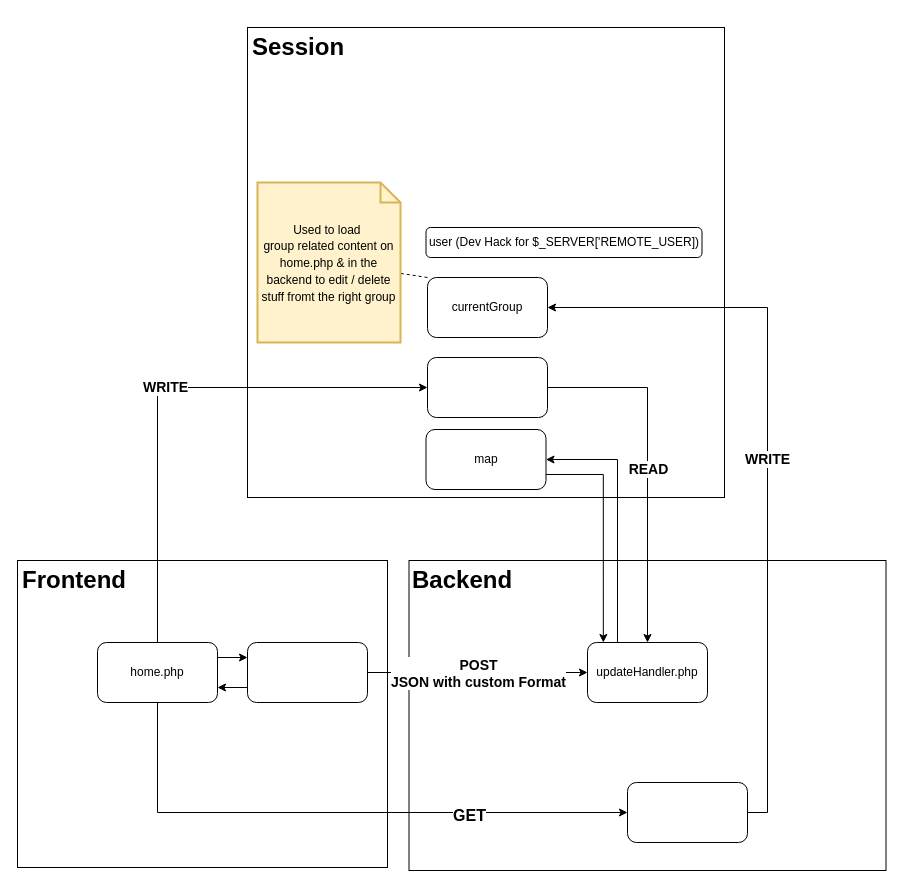
The diagram is 904 pixels wide and 888 high, and some of its shapes have lost their labels. Here are the shapes that lost their labels. From the top down, the centre of each, then its label:
the point at 487,387: currentServiceUUID
the point at 307,672: Edit Page XY
the point at 687,812: api.php
